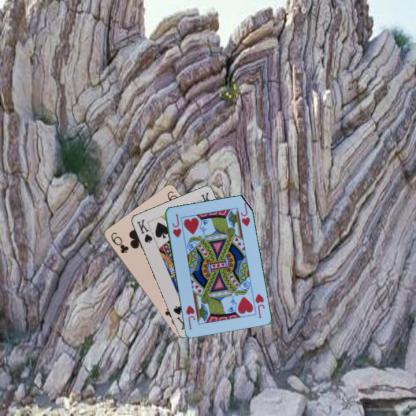6c: (108, 229, 129, 255)
Jh: (252, 291, 266, 319), (169, 211, 182, 238)
Ks: (134, 216, 154, 244)
